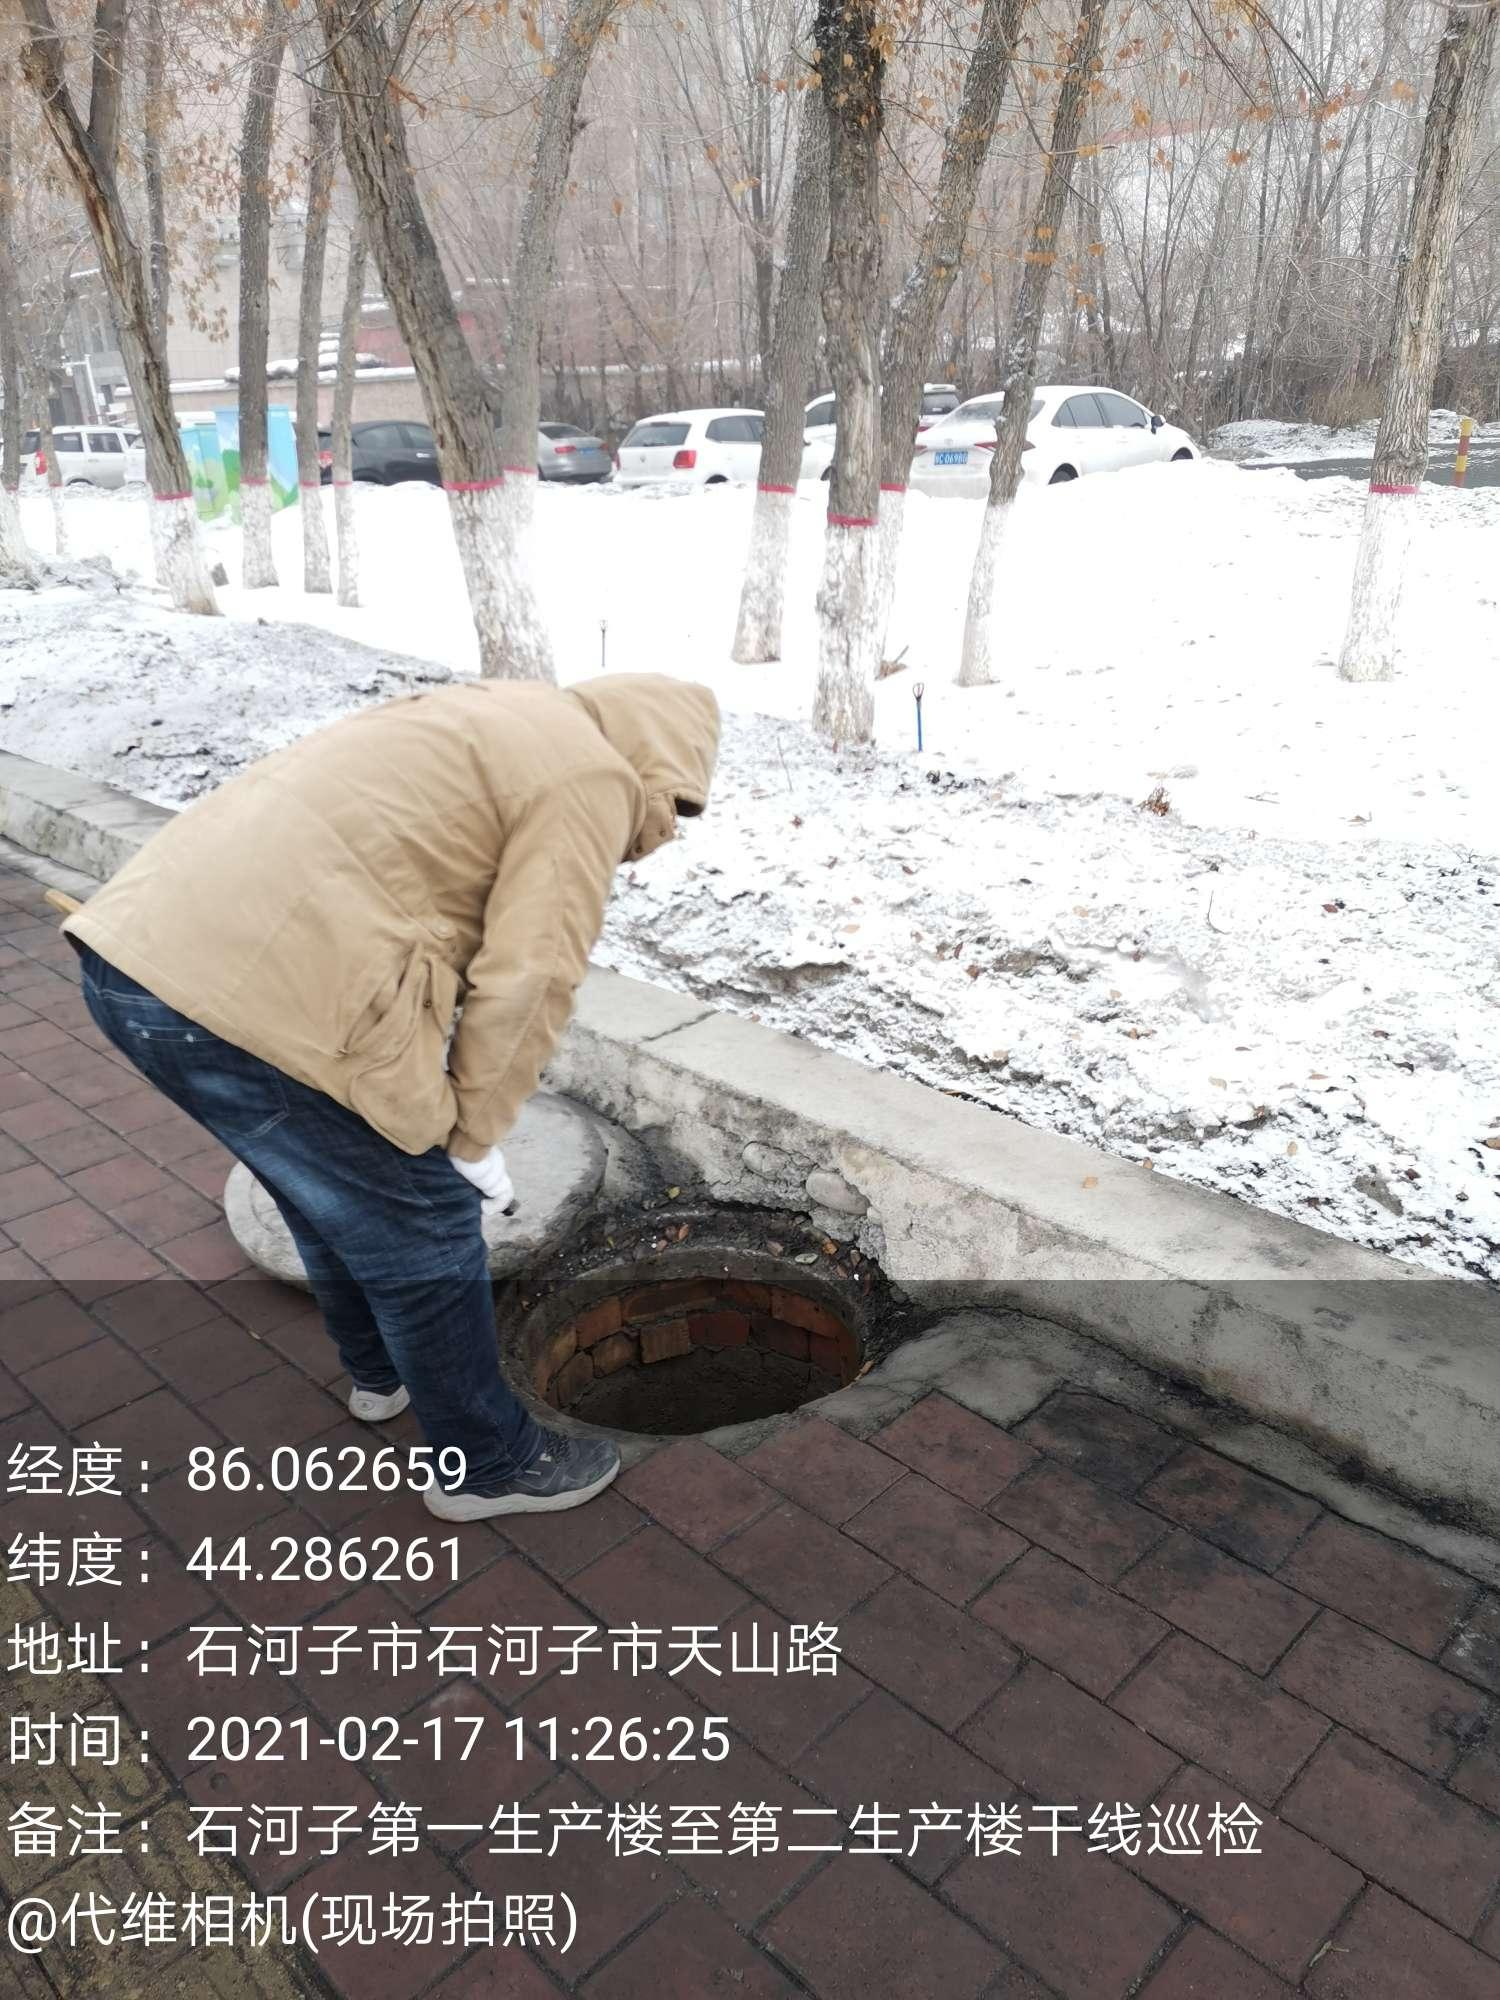wellcover: (181, 1041, 1029, 1488)
